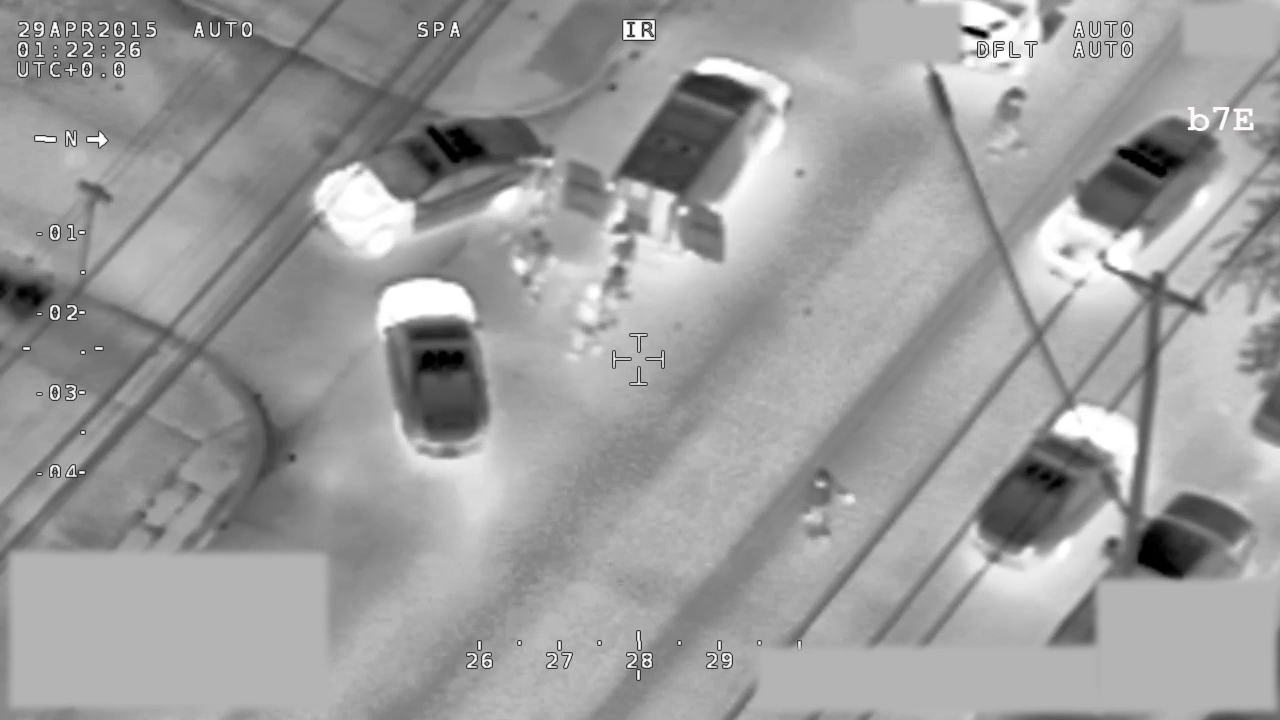vehicle: (560, 56, 811, 268), (309, 114, 553, 262), (1035, 108, 1232, 286), (971, 401, 1148, 573), (370, 275, 504, 462)
